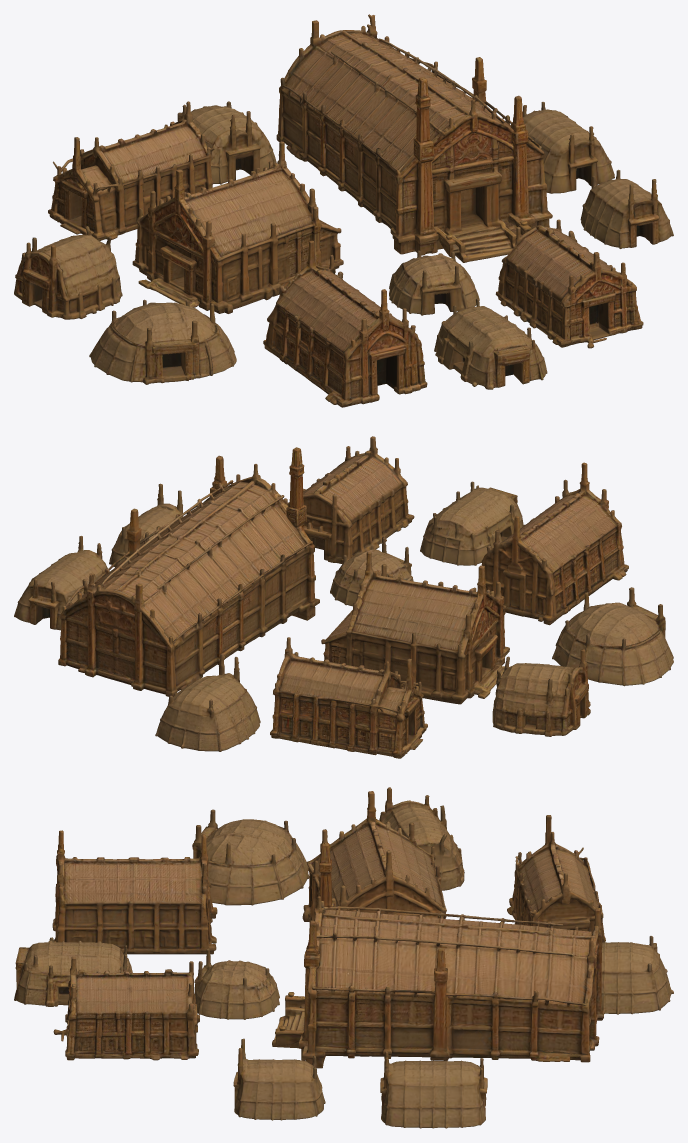
Rendered from Enlightenment Village (North American Native).fbx.
3 views of the same model, one above another, from view 1: azimuth 30°, elevation 25°; view 2: azimuth 150°, elevation 25°; view 3: azimuth 270°, elevation 25° (orthographic). The views are drawn at different scales.
Visible parts, largest first — view 1: tripo_node_961cd04d; view 2: tripo_node_961cd04d; view 3: tripo_node_961cd04d.
Boxes of the visible parts, left/top/right/bottom form: tripo_node_961cd04d: left=14, top=14, right=673, bottom=407; tripo_node_961cd04d: left=14, top=436, right=673, bottom=758; tripo_node_961cd04d: left=14, top=787, right=673, bottom=1128.
Size of the model in its own units: 1 by 0.2924 by 0.9844.
